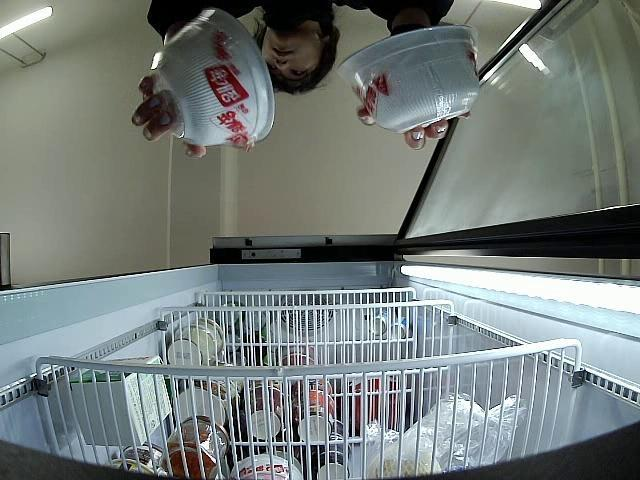09_yukGaeJang: (151, 8, 276, 149), (336, 21, 480, 134)
